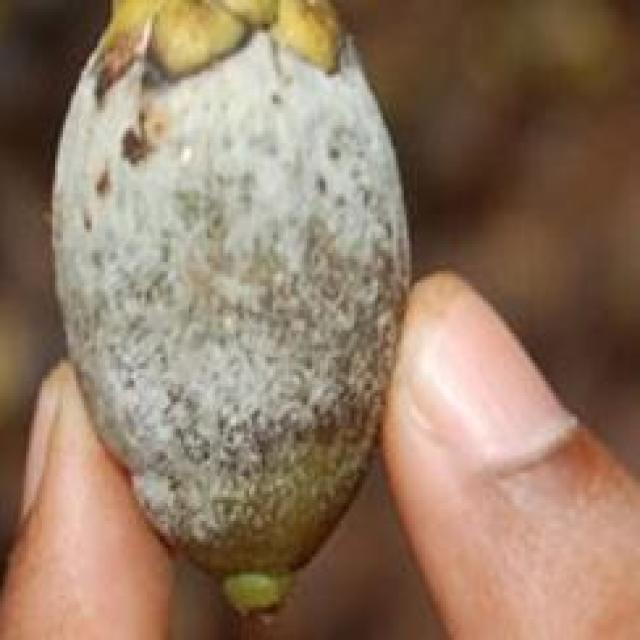damaged: (52, 0, 414, 628)
